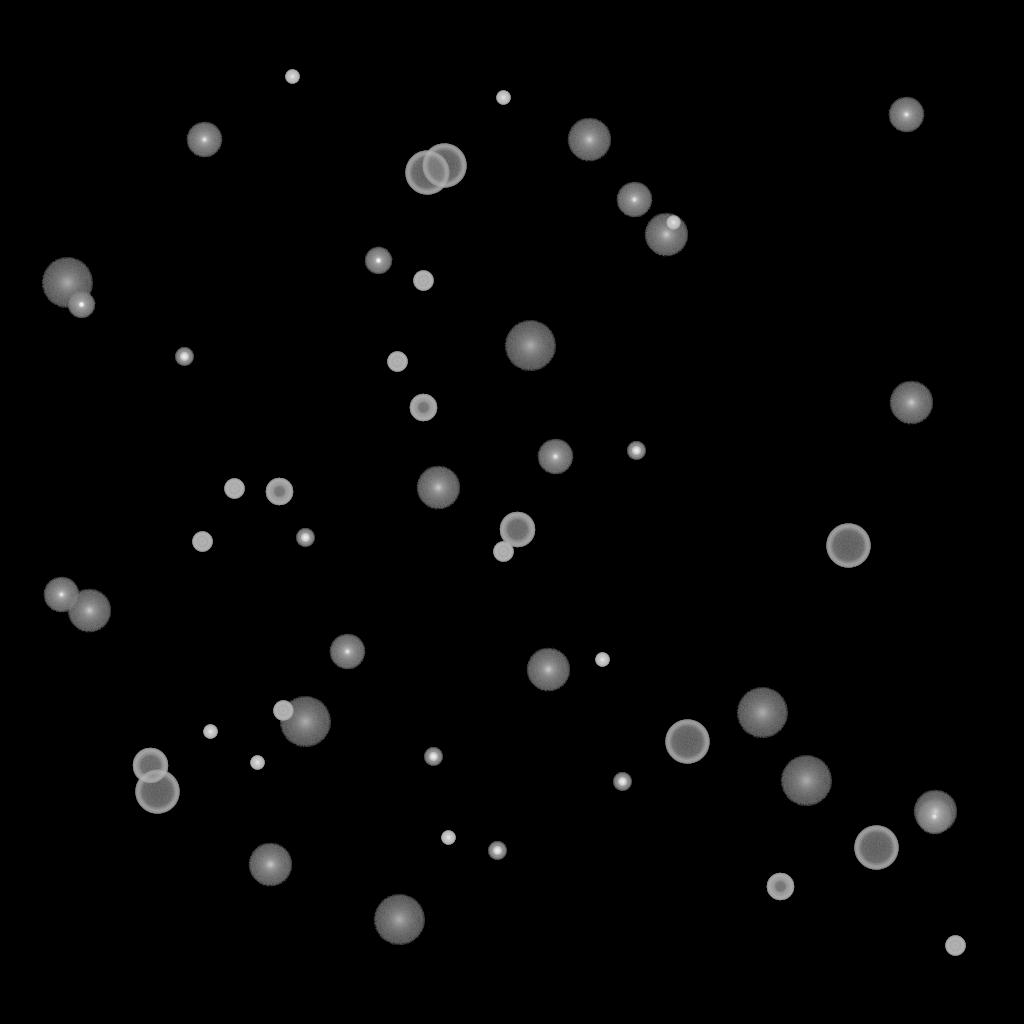depth:-10: (364, 247, 392, 275), (67, 291, 95, 319)
depth:-20: (424, 748, 442, 766), (627, 442, 645, 460), (613, 773, 631, 791), (175, 348, 193, 366), (488, 842, 506, 860), (296, 529, 314, 547)
depth:-30: (666, 216, 680, 230), (496, 91, 510, 105), (285, 70, 299, 84), (595, 653, 609, 667), (203, 725, 217, 739), (250, 756, 264, 770), (441, 831, 455, 845)
depth:-40: (192, 532, 212, 552), (945, 936, 965, 956), (493, 542, 513, 562), (413, 271, 433, 291), (387, 352, 407, 372), (224, 479, 244, 499), (273, 701, 293, 721)
depth:-50: (766, 873, 794, 901), (265, 478, 293, 506), (409, 394, 437, 422)
depth:-60: (132, 748, 168, 784), (499, 512, 535, 548)
depth:-70: (422, 144, 466, 188), (665, 720, 709, 764), (854, 826, 898, 870), (405, 151, 449, 195), (826, 524, 870, 568), (135, 770, 179, 814)
depth:0: (616, 182, 652, 218), (329, 634, 365, 670), (186, 122, 222, 158), (43, 577, 79, 613), (916, 799, 952, 835), (537, 439, 573, 475), (888, 97, 924, 133)
depth:10: (248, 843, 292, 887), (889, 381, 933, 425), (416, 466, 460, 510), (526, 648, 570, 692), (644, 213, 688, 257), (567, 118, 611, 162), (67, 589, 111, 633), (913, 790, 957, 834)
depth:20: (41, 258, 93, 308), (373, 895, 425, 945), (780, 756, 832, 806), (736, 688, 788, 738), (504, 321, 556, 371), (279, 697, 331, 747)
